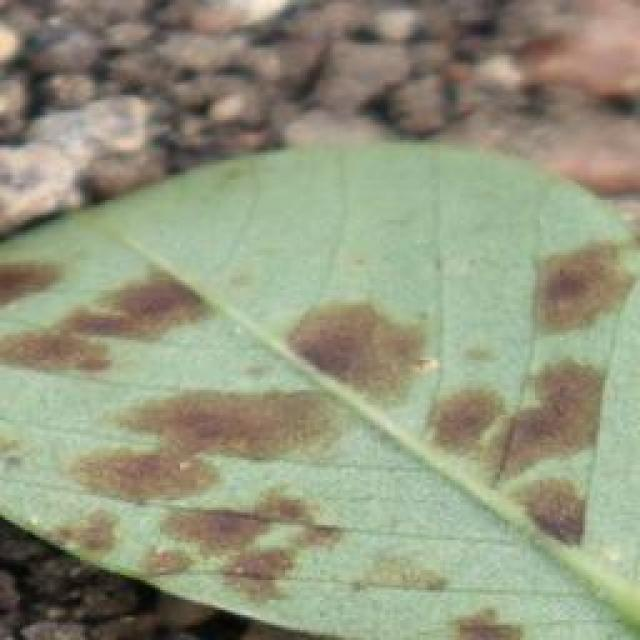Whitefly: (0, 205, 640, 640)
